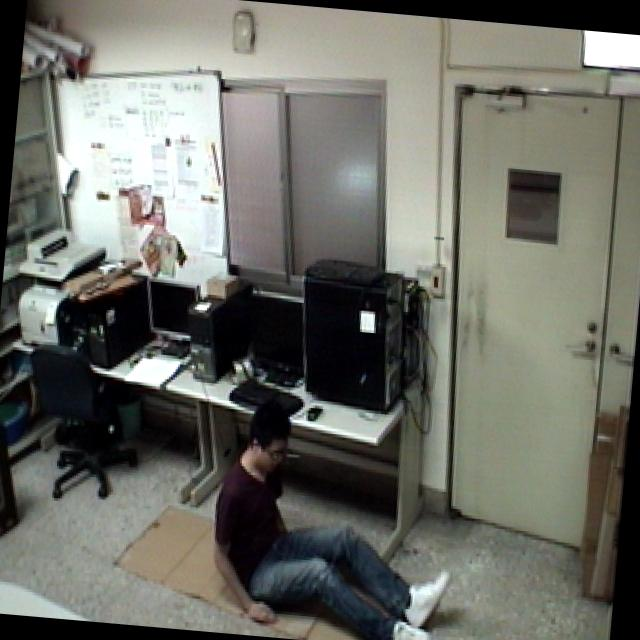sit: (199, 389, 472, 640)
